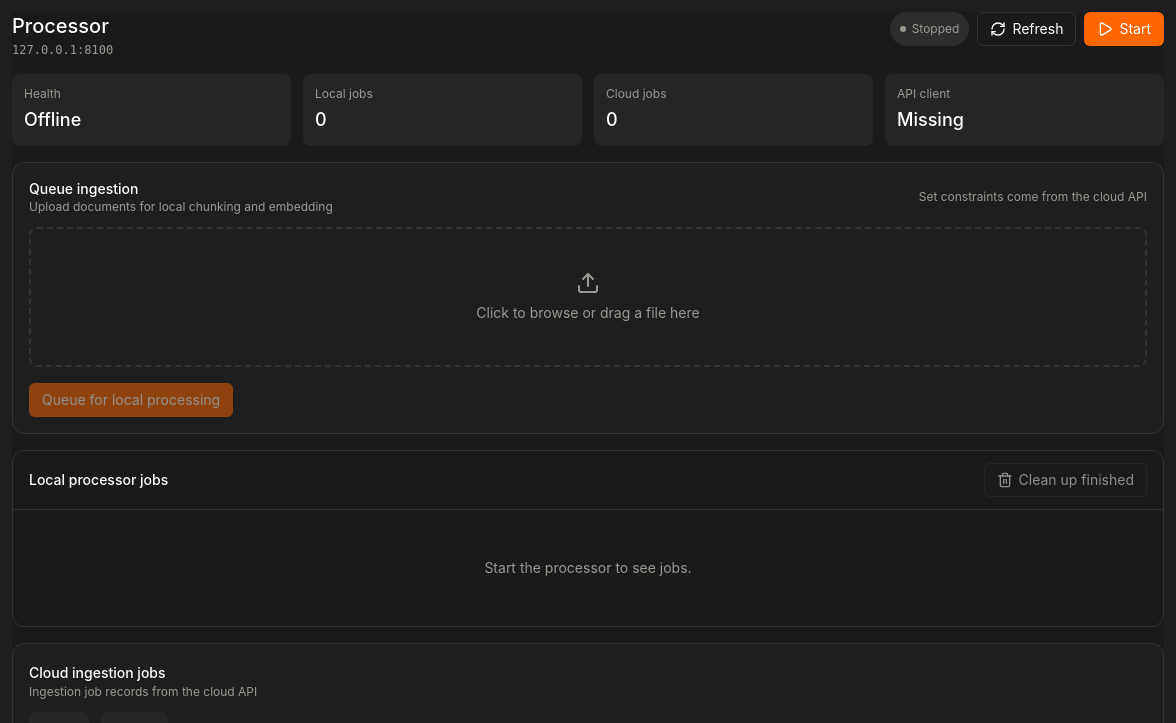
Scenario: ProcessorScreen — cloud job source file name subtitle › rejects unsafe source paths and cleans up the created cloud job
Expected: the text "Stopped" is shown, [890,12,970,46]
What coordinates should you click on to do the following:
click the text "Click to browse or drag a file here"
I would click on:
 (588, 313)
Its box is [476,303,700,323].
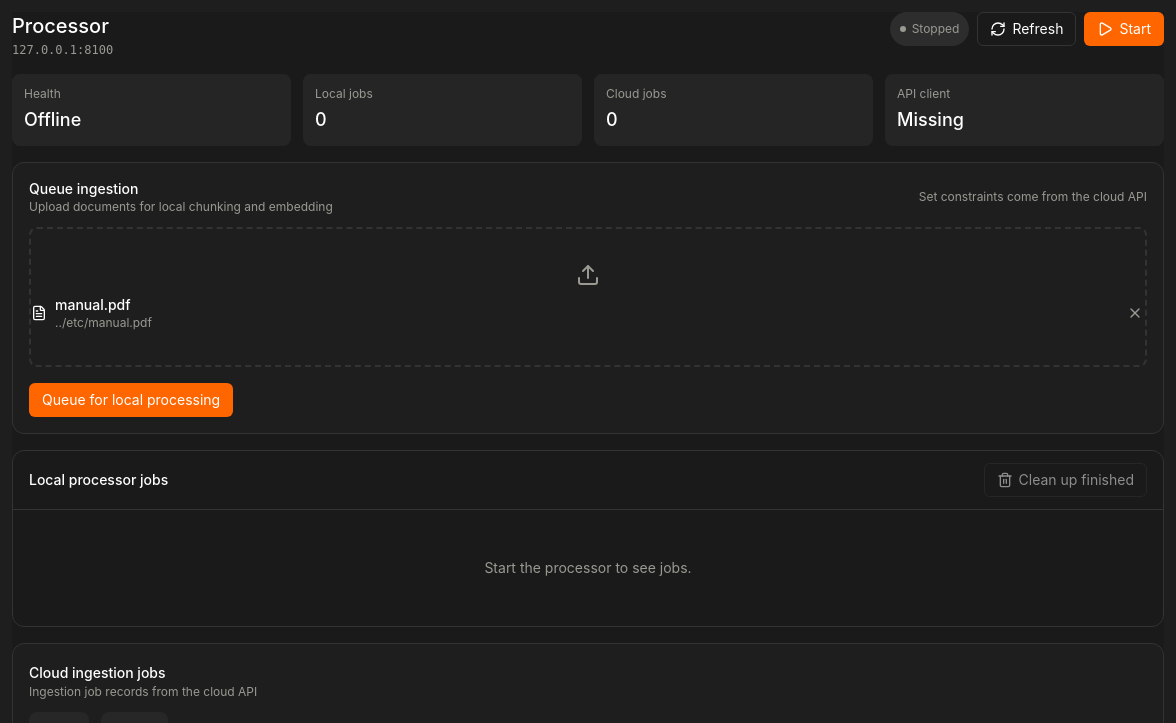
Expected: the text "manual.pdf" is shown, [55,296,131,313]
What coordinates should you click on to do the following:
click the button "Queue for local processing"
I would click on:
 (131, 400)
Its box is [29,383,233,417].
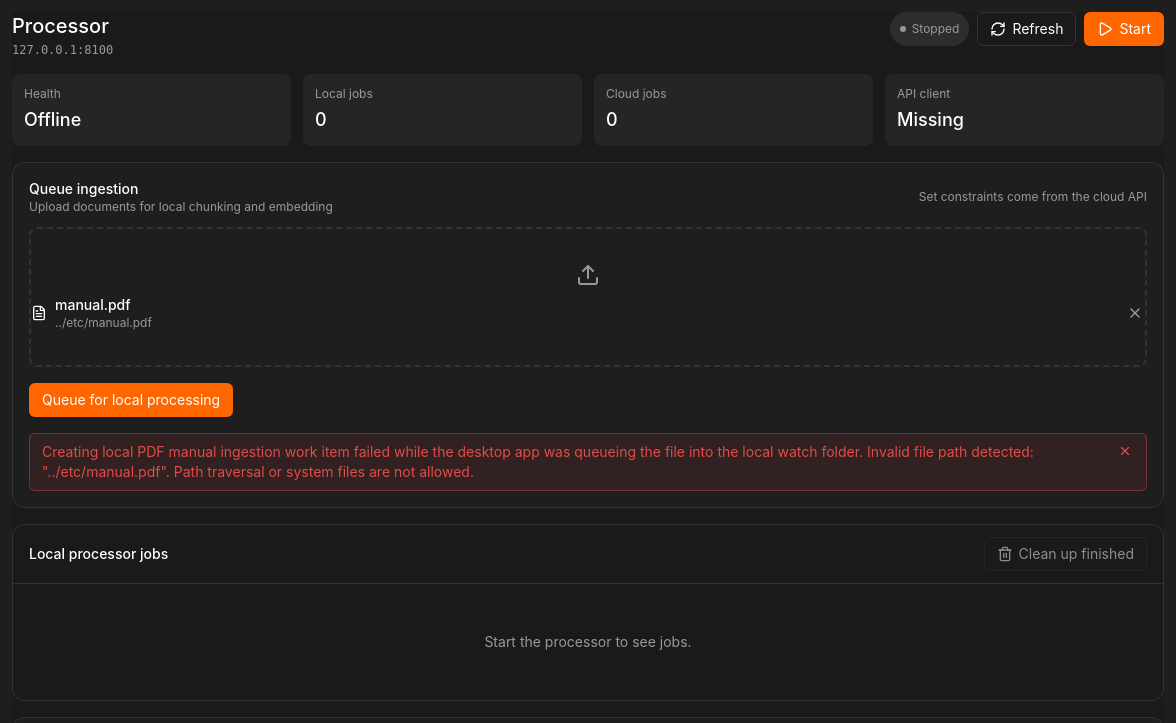
Expected: the text "Invalid file path detected" is shown, [42,443,1038,480]
